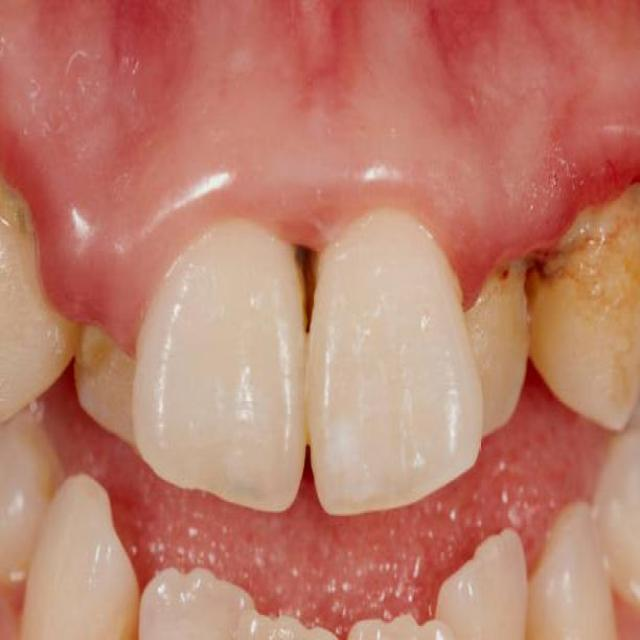caries: (278, 228, 338, 343)
